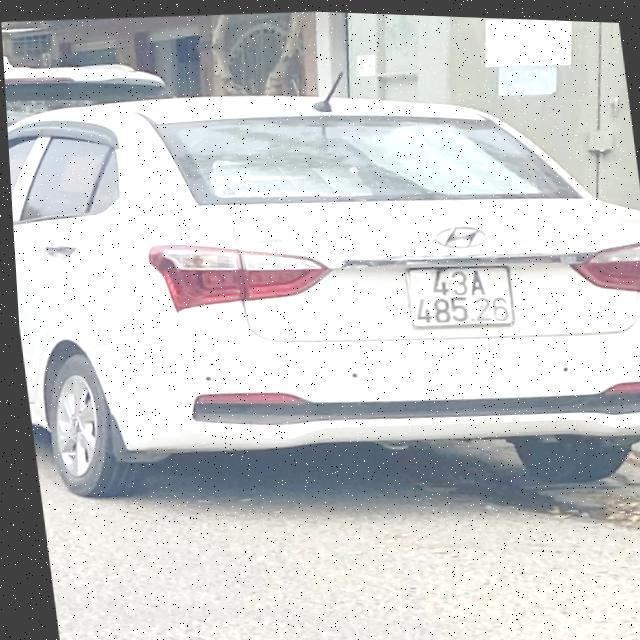car: (3, 53, 640, 519)
plate: (393, 249, 527, 341)
